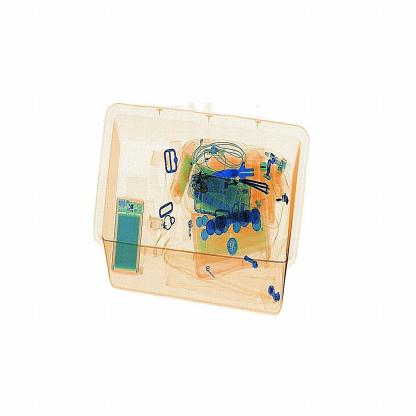gun: (205, 143, 275, 200)
